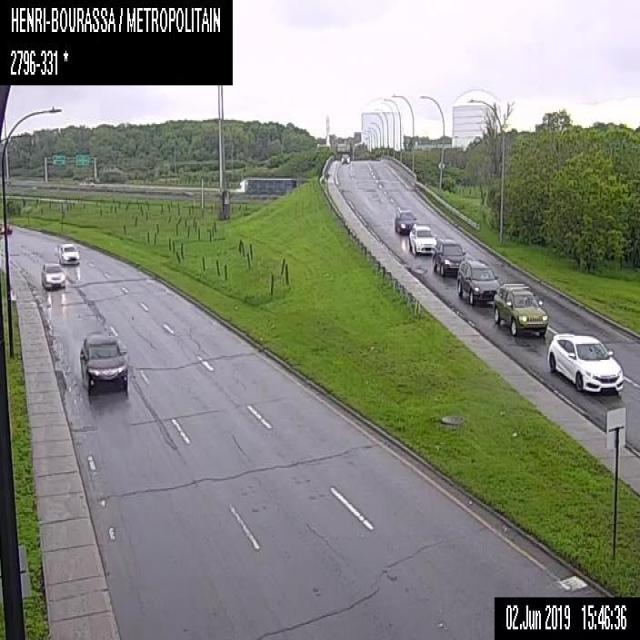vehicle: (546, 330, 622, 394), (76, 328, 128, 395), (493, 282, 548, 335), (456, 258, 499, 306), (431, 236, 466, 277), (234, 176, 298, 193), (408, 222, 436, 255), (40, 261, 65, 288), (394, 205, 416, 234), (57, 241, 79, 264), (0, 222, 11, 234), (341, 153, 349, 163)
